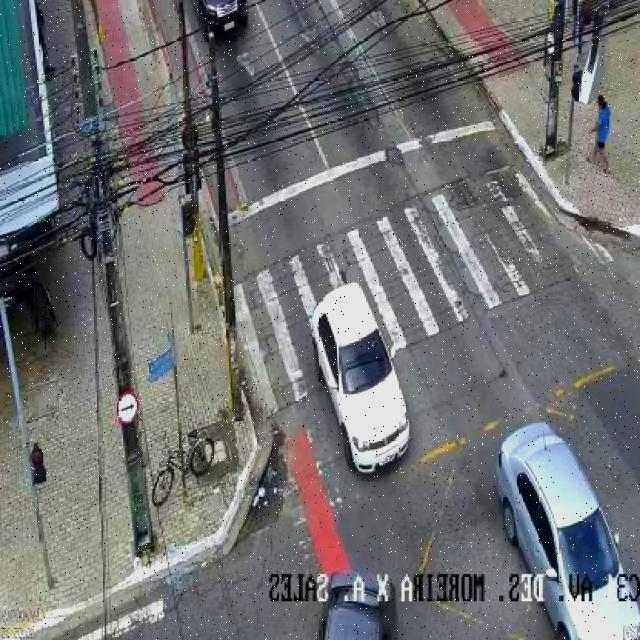Car: (496, 421, 639, 640), (310, 280, 411, 474), (314, 571, 402, 640), (197, 0, 256, 40)
Cycle: (151, 429, 214, 509)
